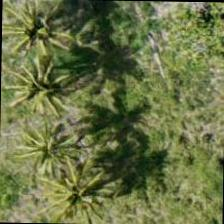Kelapa_Sawit: (2, 96, 94, 188), (0, 40, 88, 132), (35, 144, 127, 224), (1, 0, 81, 68)
